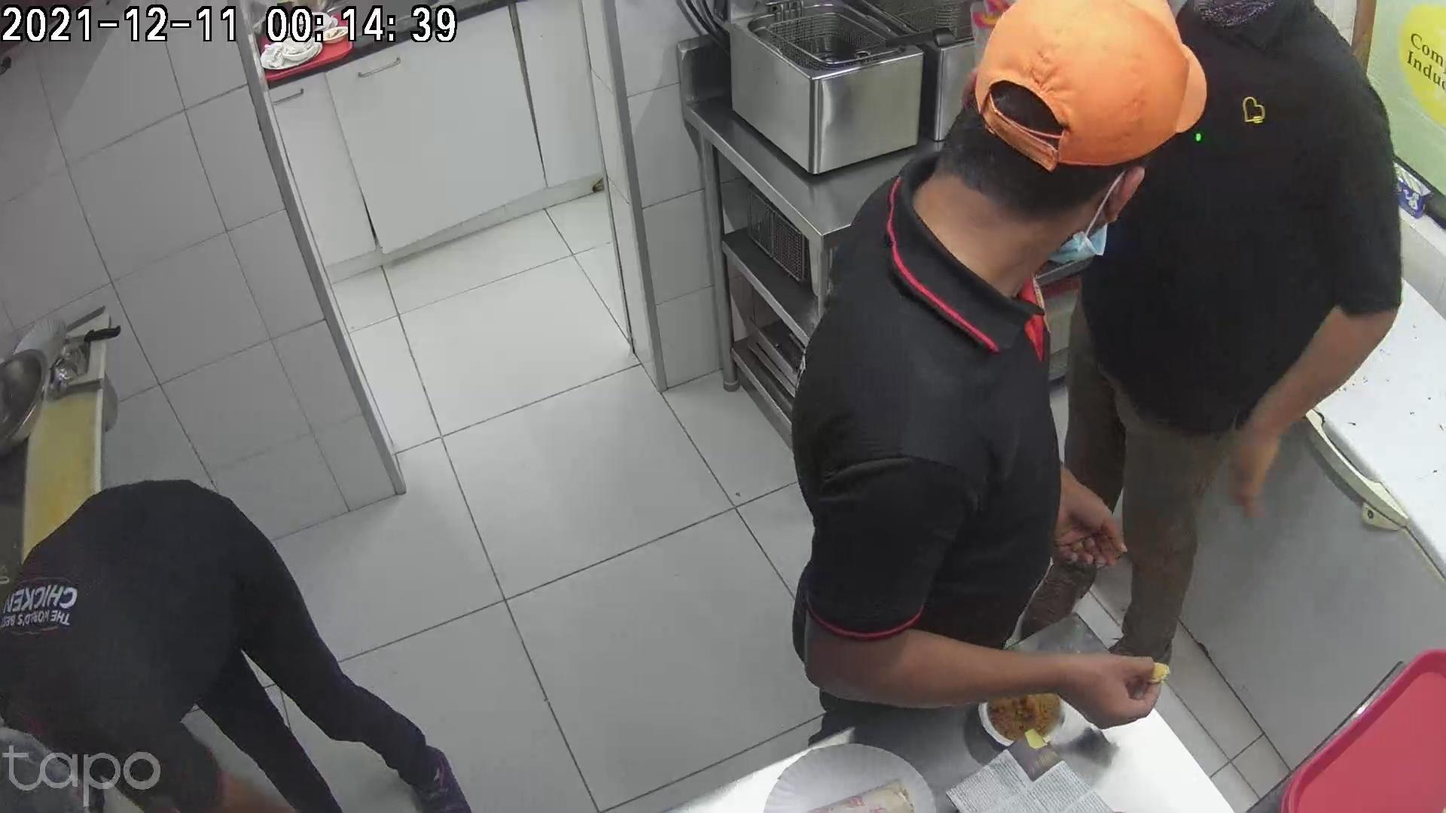gloves: (844, 626, 946, 777)
no_gloves: (1033, 592, 1115, 700)
